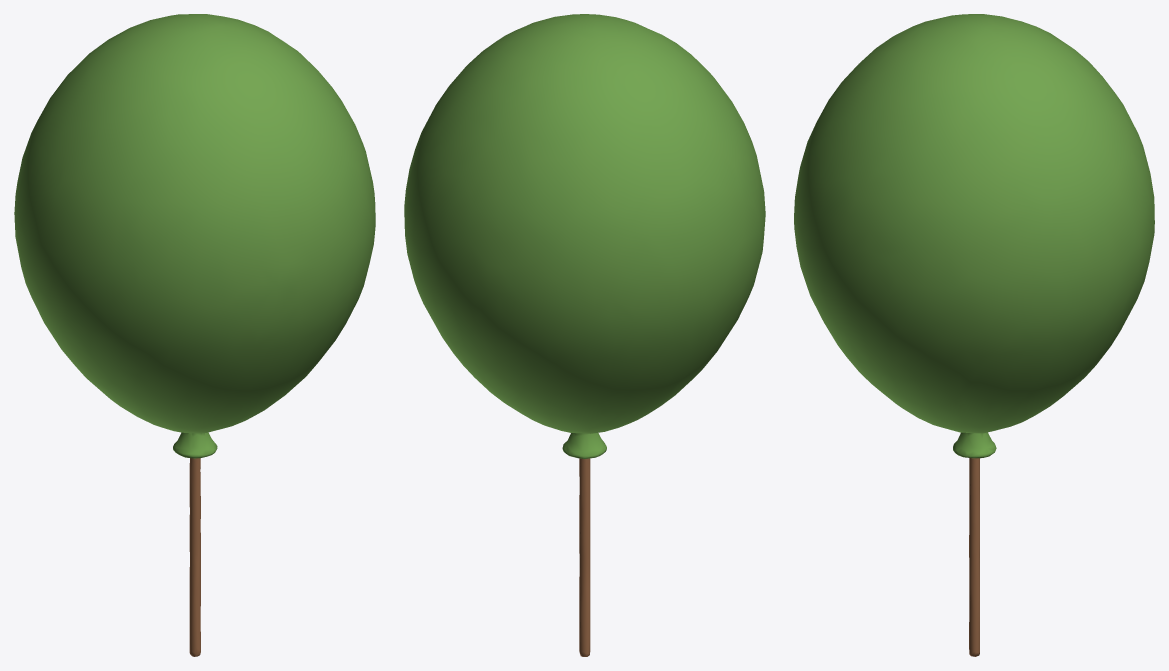
The model's file is gen3d-party-balloon-lod0.glb.
3 views of the same model, side by side, from view 1: azimuth 30°, elevation 25°; view 2: azimuth 150°, elevation 25°; view 3: azimuth 270°, elevation 25° (orthographic).
Visible parts, largest first — view 1: part_0; view 2: part_0; view 3: part_0.
Part boxes in pixels (left/top/right/bottom): part_0: left=14, top=14, right=375, bottom=656; part_0: left=404, top=14, right=765, bottom=656; part_0: left=794, top=14, right=1154, bottom=656.
Size of the model in its own units: 0.5204 by 0.9989 by 0.5204.
